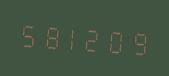eight: (39, 16, 60, 54)
five: (17, 15, 38, 52)
nine: (128, 23, 149, 60)
one: (62, 18, 83, 55)
two: (84, 20, 105, 57)
zero: (106, 21, 127, 58)
